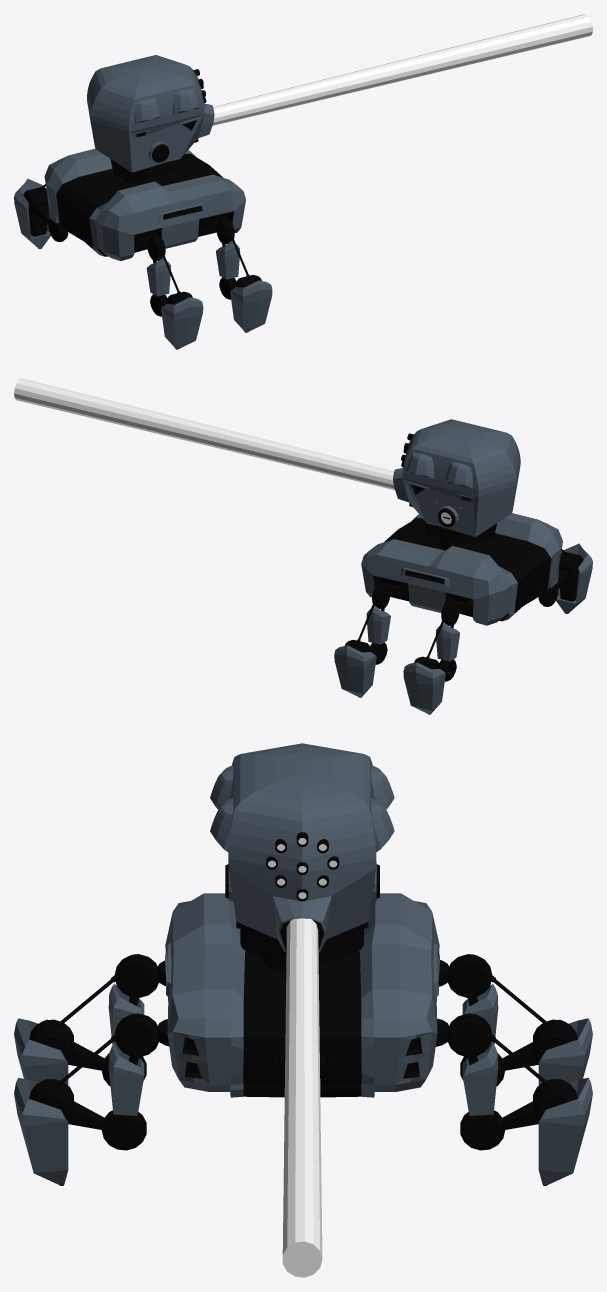
File: Laser_bot.glb
3 views of the same model, one above another, from view 1: azimuth 30°, elevation 25°; view 2: azimuth 150°, elevation 25°; view 3: azimuth 270°, elevation 25° (orthographic). The views are drawn at different scales.
Visible parts, largest first — view 1: unnamed (×13); view 2: unnamed (×13); view 3: unnamed (×21).
Part boxes in pixels (x1,y1,x2,y2): unnamed (×13): (14,14,592,349); unnamed (×13): (14,378,592,714); unnamed (×21): (14,743,592,1277).
Size of the model in its own units: 7.3 by 2.99 by 4.04.
